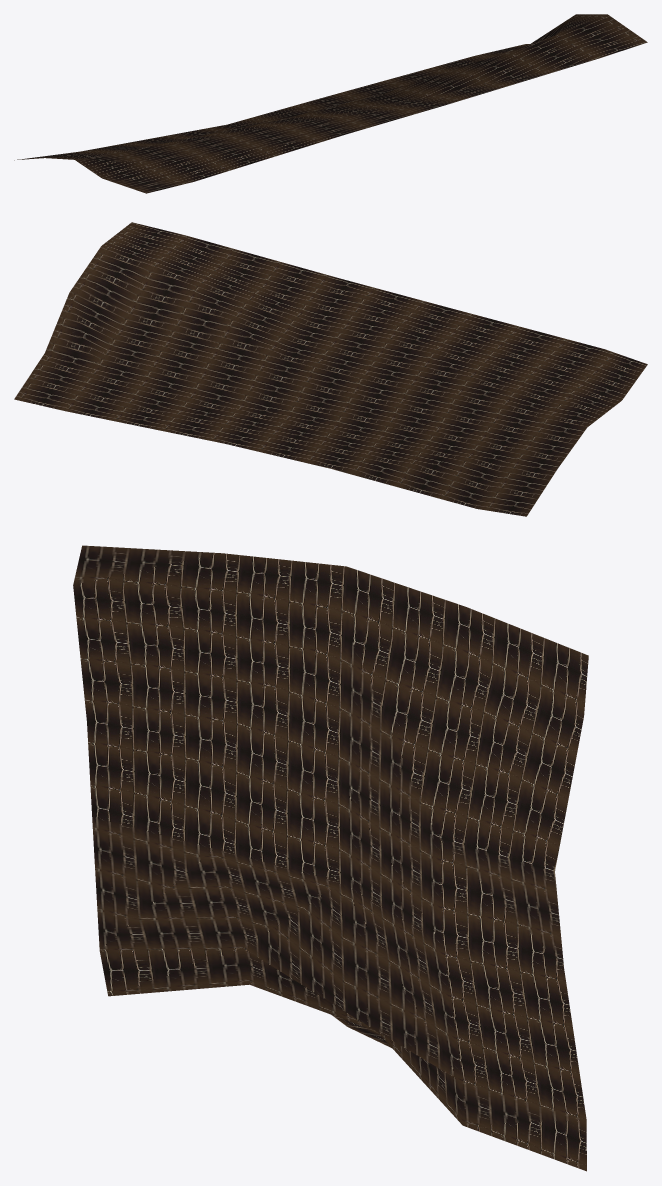
File: M_Home_Garden_Outside_Bed06.fbx
3 renders of one model, top to bottom at view 1: azimuth 30°, elevation 25°; view 2: azimuth 150°, elevation 25°; view 3: azimuth 270°, elevation 25°, orthographic. The views are drawn at different scales.
Parts seen in each view (by area): view 1: M_Home_Garden_Outside_Bed06; view 2: M_Home_Garden_Outside_Bed06; view 3: M_Home_Garden_Outside_Bed06.
Boxes of the visible parts, x1,y1,x2,y2 form: M_Home_Garden_Outside_Bed06: [14, 14, 647, 193]; M_Home_Garden_Outside_Bed06: [14, 222, 647, 516]; M_Home_Garden_Outside_Bed06: [73, 545, 588, 1171].
Bounding box in the file's own units: 229 × 38.98 × 99.02.
